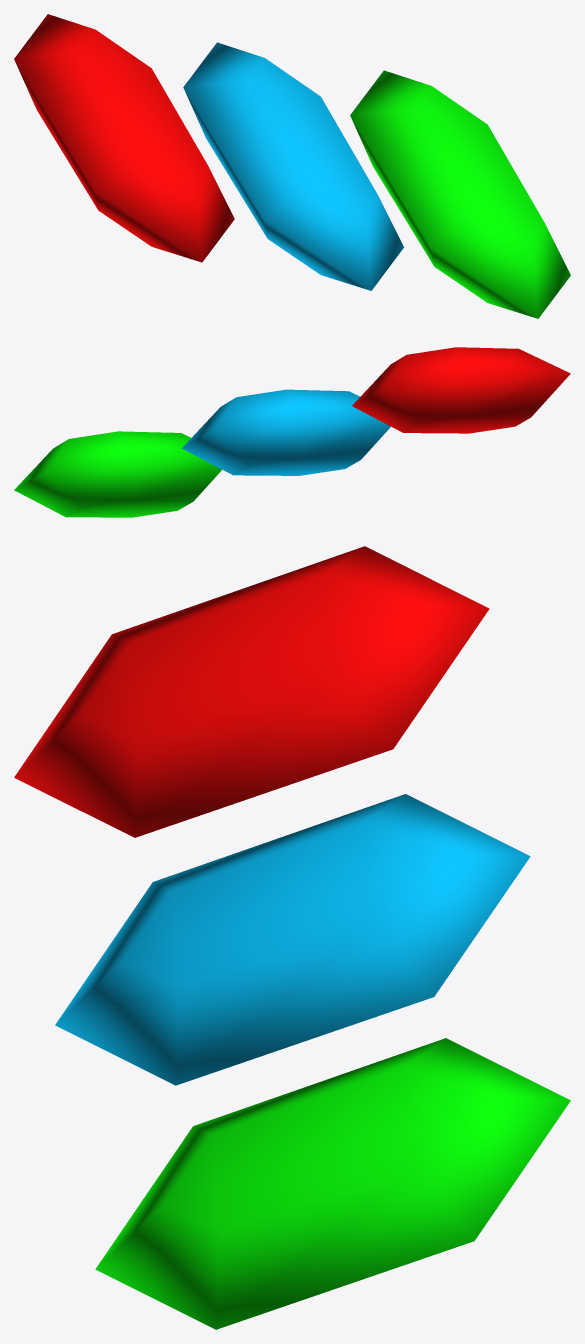
File: Rupees.fbx
The picture shows the model from 3 angles, top to bottom: view 1: azimuth 30°, elevation 25°; view 2: azimuth 150°, elevation 25°; view 3: azimuth 270°, elevation 25°; orthographic projection. The views are drawn at different scales.
Visible parts, largest first — view 1: Cube, Cube.002, Cube.001; view 2: Cube.001, Cube, Cube.002; view 3: Cube.002, Cube, Cube.001.
Part boxes in pixels (x1,y1,x2,y2): Cube: (183,42,403,290); Cube.002: (350,70,570,318); Cube.001: (14,14,234,262); Cube.001: (352,347,570,433); Cube: (182,389,390,475); Cube.002: (14,431,221,517); Cube.002: (95,1038,570,1329); Cube: (55,794,530,1085); Cube.001: (14,546,489,837).
Size of the model in its own units: 920 by 525 by 595.
